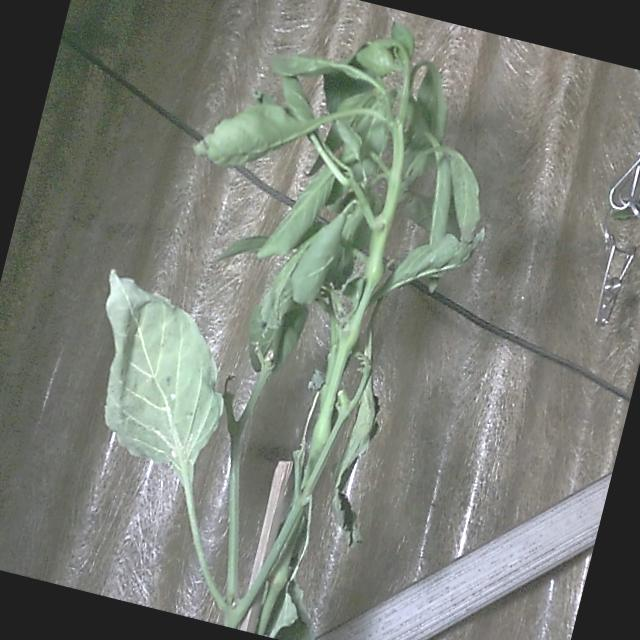Leaf: (67, 269, 250, 476), (319, 377, 398, 548), (188, 86, 312, 185), (379, 205, 488, 316)
